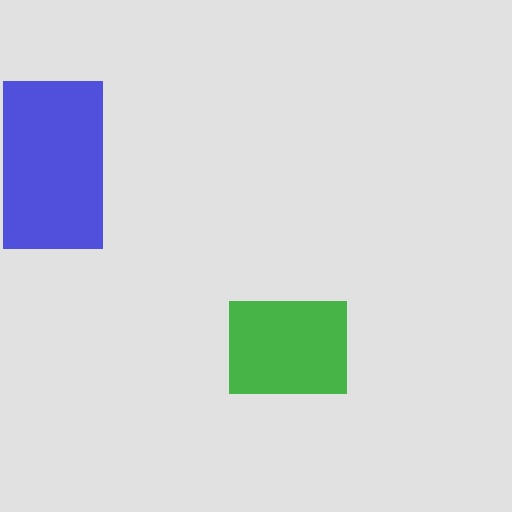tall_box: (3, 81, 102, 248)
wide_box: (229, 301, 346, 393)
